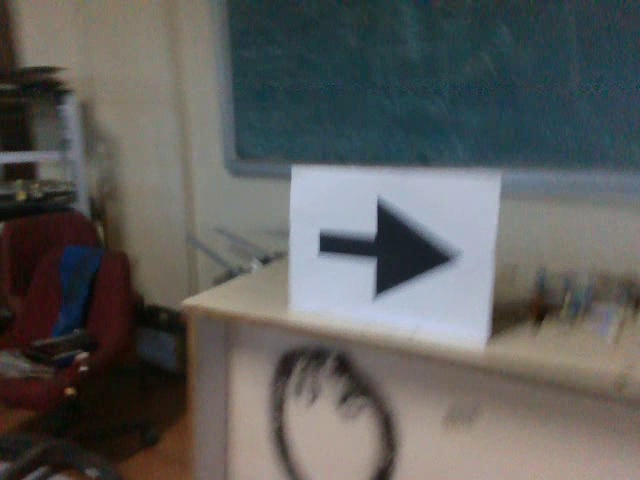Right: (309, 189, 460, 304)
